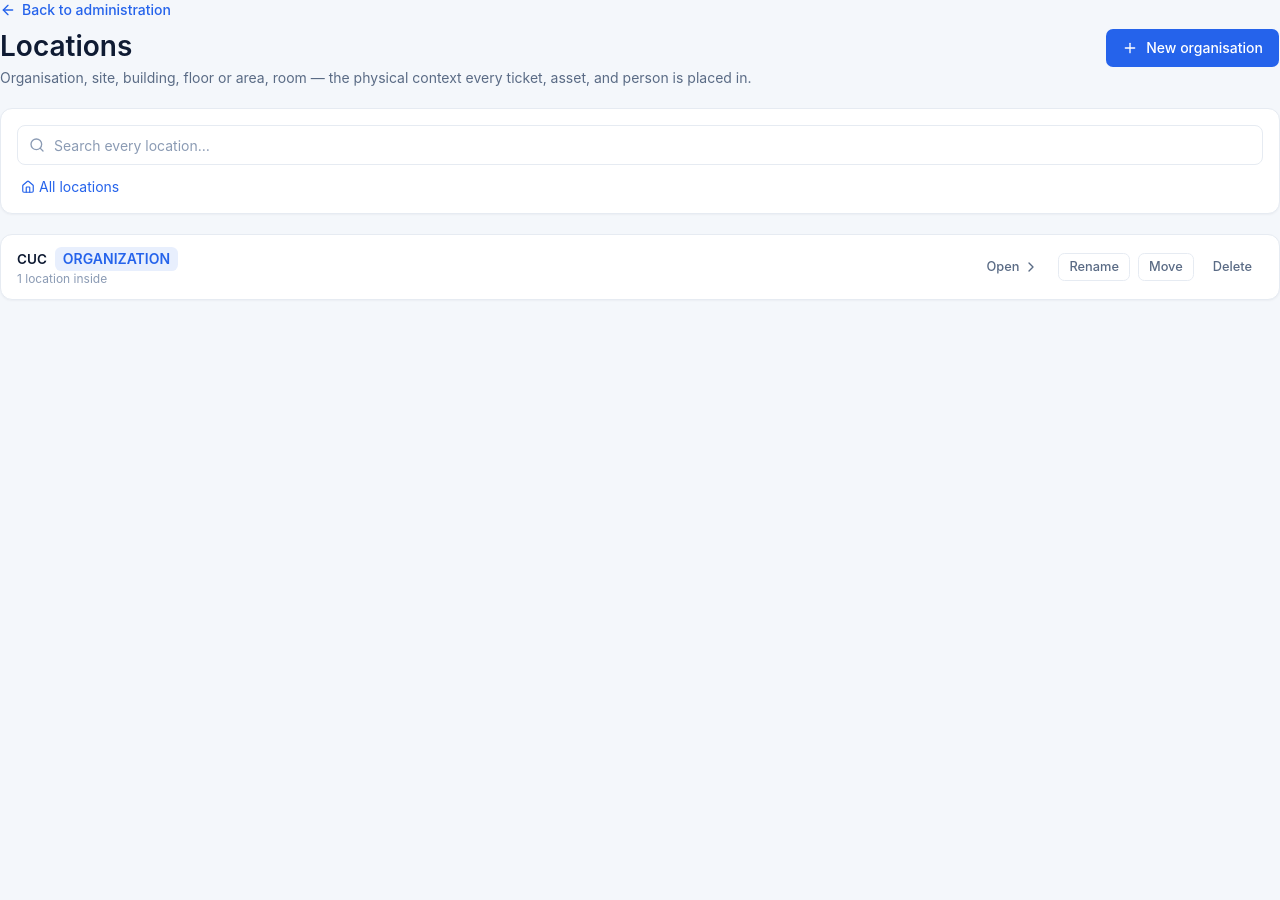
Test: LocationsPage › says what a location still holds before offering to delete it
Expected: the text "CUC" is shown, [17,249,47,269]
Click the button "Delete": click(1232, 267) [1202,253,1263,281]
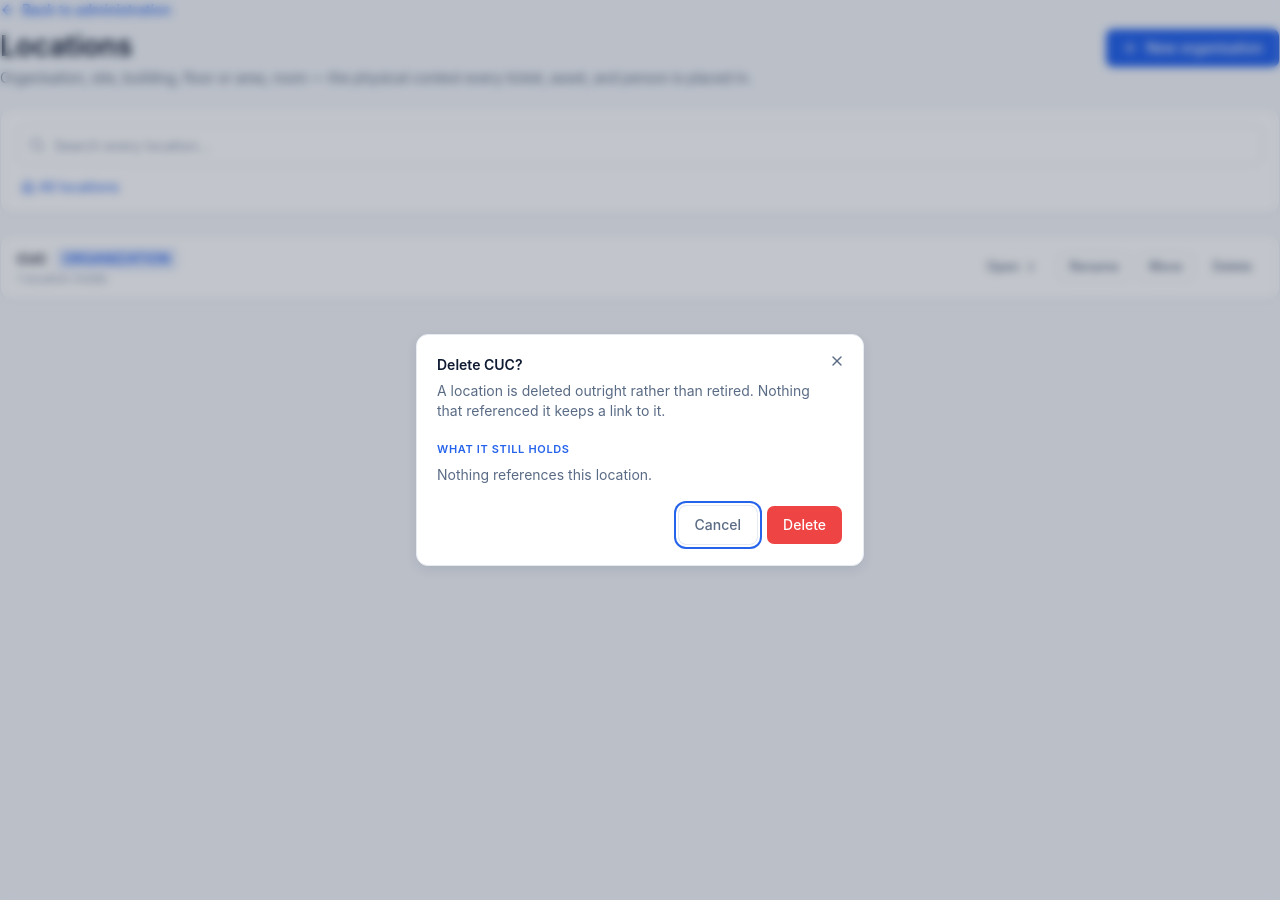
Expected: the text "What it still holds" is shown, [437,442,570,456]
